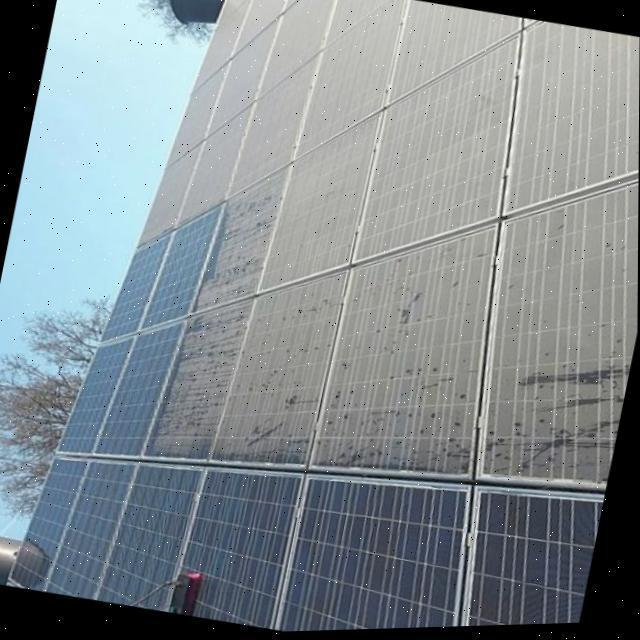Normal Solar Panel: (5, 169, 639, 640)
